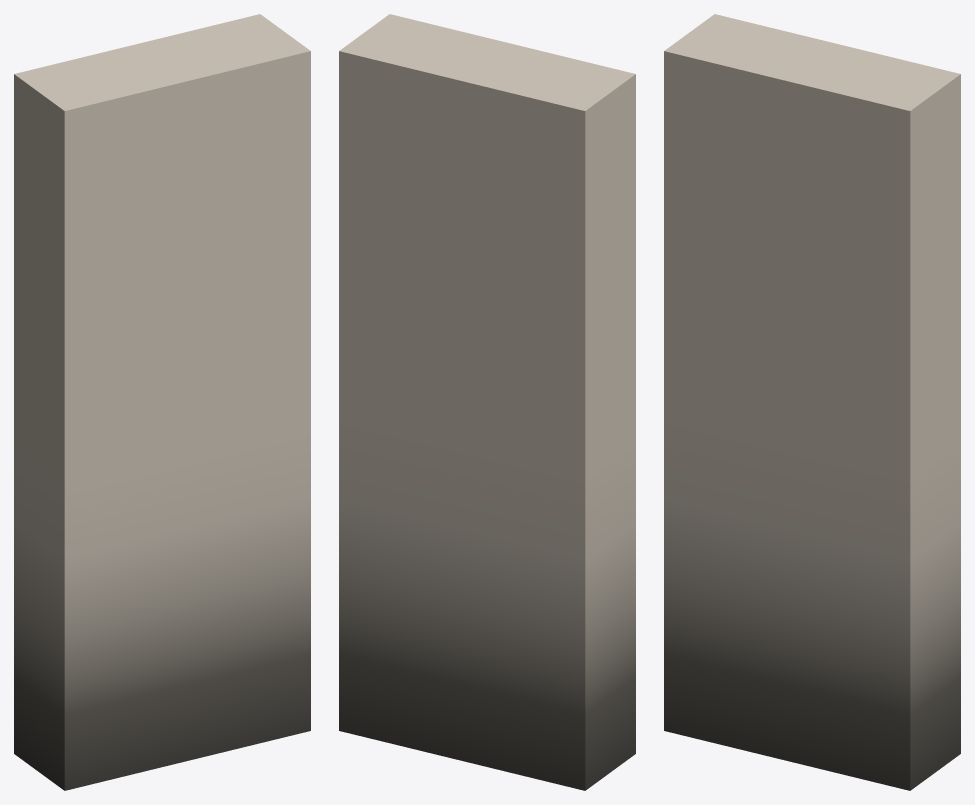
Rendered from SM_VKI_Leaf_SecretStone_Full.fbx.
The picture shows the model from 3 angles, left to right: view 1: azimuth 30°, elevation 25°; view 2: azimuth 150°, elevation 25°; view 3: azimuth 330°, elevation 25°; orthographic projection.
Visible parts, largest first — view 1: SM_VKI_Leaf_SecretStone_Full.001; view 2: SM_VKI_Leaf_SecretStone_Full.001; view 3: SM_VKI_Leaf_SecretStone_Full.001.
Boxes of the visible parts, x1,y1,x2,y2 form: SM_VKI_Leaf_SecretStone_Full.001: (14,14,310,790); SM_VKI_Leaf_SecretStone_Full.001: (339,14,635,790); SM_VKI_Leaf_SecretStone_Full.001: (664,14,960,790).
Bounding box in the file's own units: 0.83 × 2.19 × 0.296.
